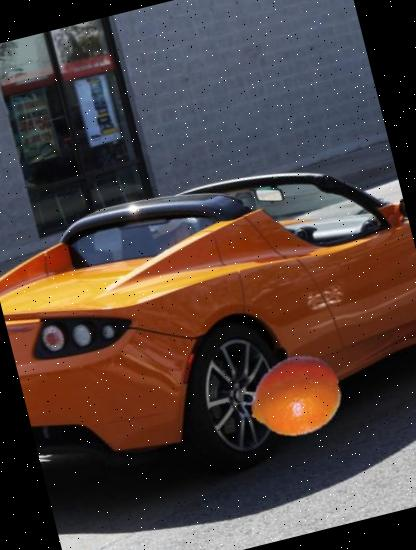Tangelo: (238, 340, 352, 454)
